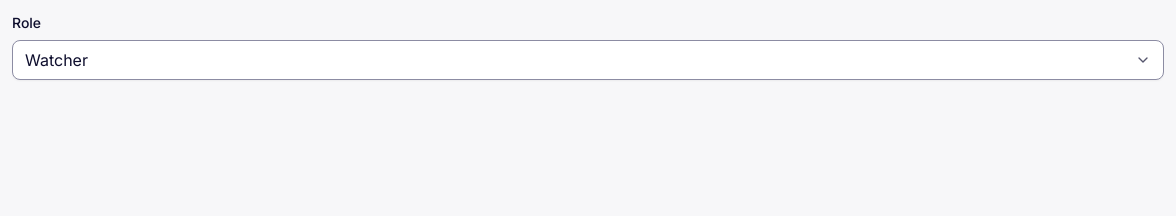
Test case: SelectField › reports the chosen value
Click the dropdown named "Role".
click(56, 60)  # box [12,40,1164,80]
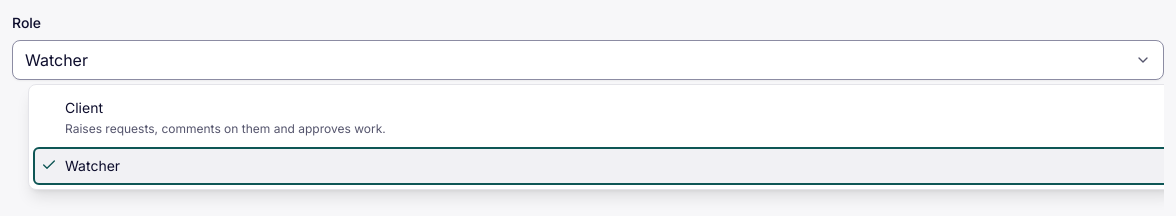
Click the option "Client Raises requests, comments on them and approves work.".
click(84, 108)  # box [65,99,386,136]
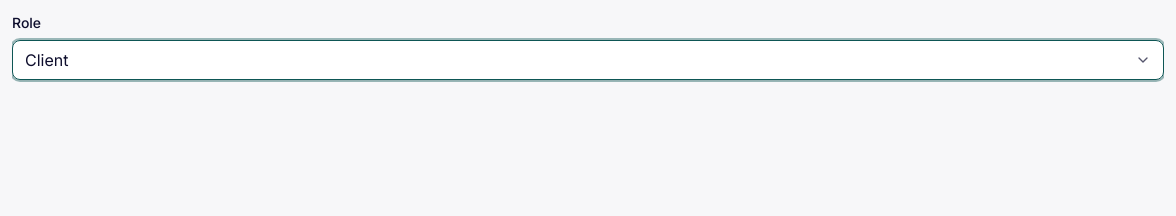
Check: the dropdown named "Role" reads "Client", box [12,40,1164,80]
